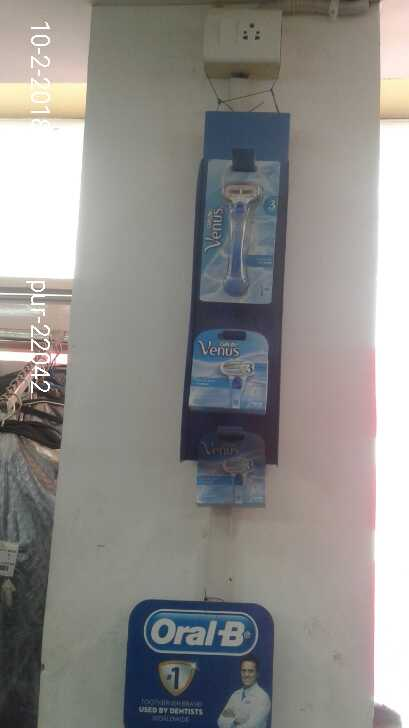venus: (198, 154, 280, 311), (192, 325, 272, 421), (191, 422, 271, 506)
